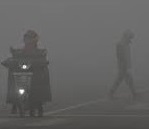person: (16, 28, 46, 117), (111, 28, 138, 98)
